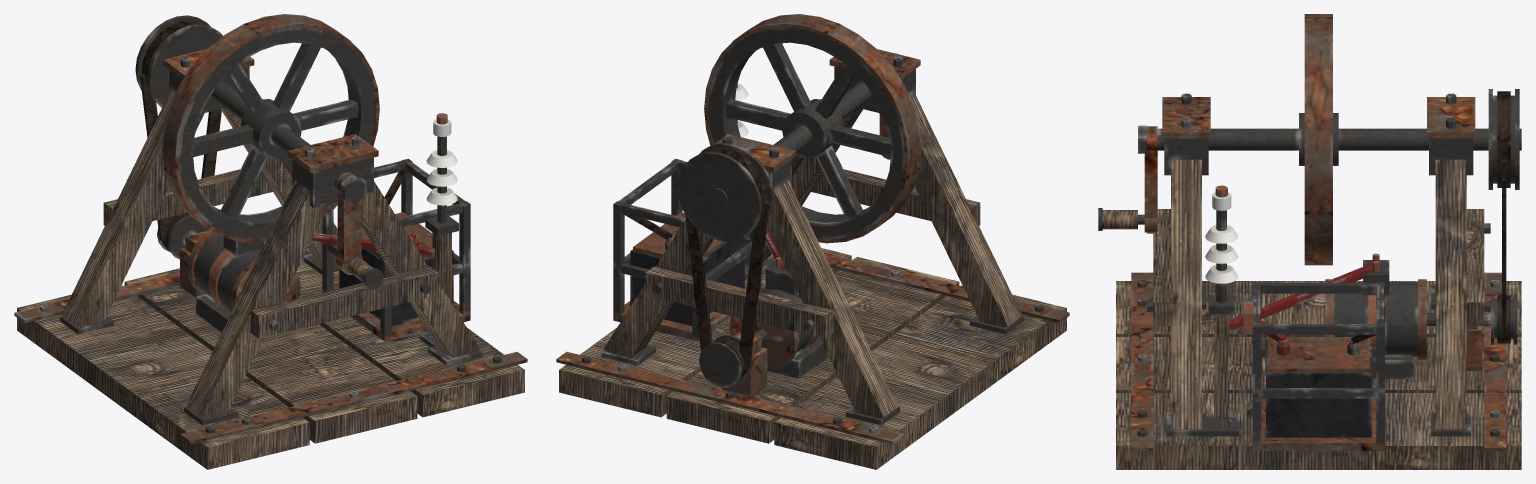
Rendered from feCrank_HD.fbx.
3 renders of one model, left to right at view 1: azimuth 30°, elevation 25°; view 2: azimuth 150°, elevation 25°; view 3: azimuth 270°, elevation 25°, orthographic. The views are drawn at different scales.
Visible parts, largest first — view 1: feCrank_Base, feCrank_Rotor, feCrank_Module, feCrank_Battery, feCrank_DynamoPulley; view 2: feCrank_Base, feCrank_Rotor, feCrank_Module, feCrank_Battery, feCrank_DynamoPulley; view 3: feCrank_Base, feCrank_Rotor, feCrank_Battery, feCrank_Module, feCrank_DynamoPulley.
Boxes of the visible parts, x1=… form: feCrank_Base: x1=14, y1=20, x2=527, y2=469; feCrank_Rotor: x1=135, y1=14, x2=383, y2=289; feCrank_Module: x1=322, y1=158, x2=470, y2=341; feCrank_Battery: x1=339, y1=166, x2=453, y2=325; feCrank_DynamoPulley: x1=157, y1=215, x2=209, y2=259; feCrank_Base: x1=556, y1=49, x2=1069, y2=469; feCrank_Rotor: x1=677, y1=14, x2=921, y2=243; feCrank_Module: x1=613, y1=158, x2=761, y2=341; feCrank_Battery: x1=622, y1=212, x2=744, y2=325; feCrank_DynamoPulley: x1=699, y1=329, x2=767, y2=387; feCrank_Base: x1=1116, y1=91, x2=1521, y2=469; feCrank_Rotor: x1=1098, y1=14, x2=1521, y2=265; feCrank_Battery: x1=1260, y1=319, x2=1375, y2=437; feCrank_Module: x1=1243, y1=282, x2=1384, y2=450; feCrank_DynamoPulley: x1=1427, y1=294, x2=1517, y2=344.
Size of the model in its own units: 0.94 by 0.905 by 0.96.
Materials: 1 (1 with a texture image).
